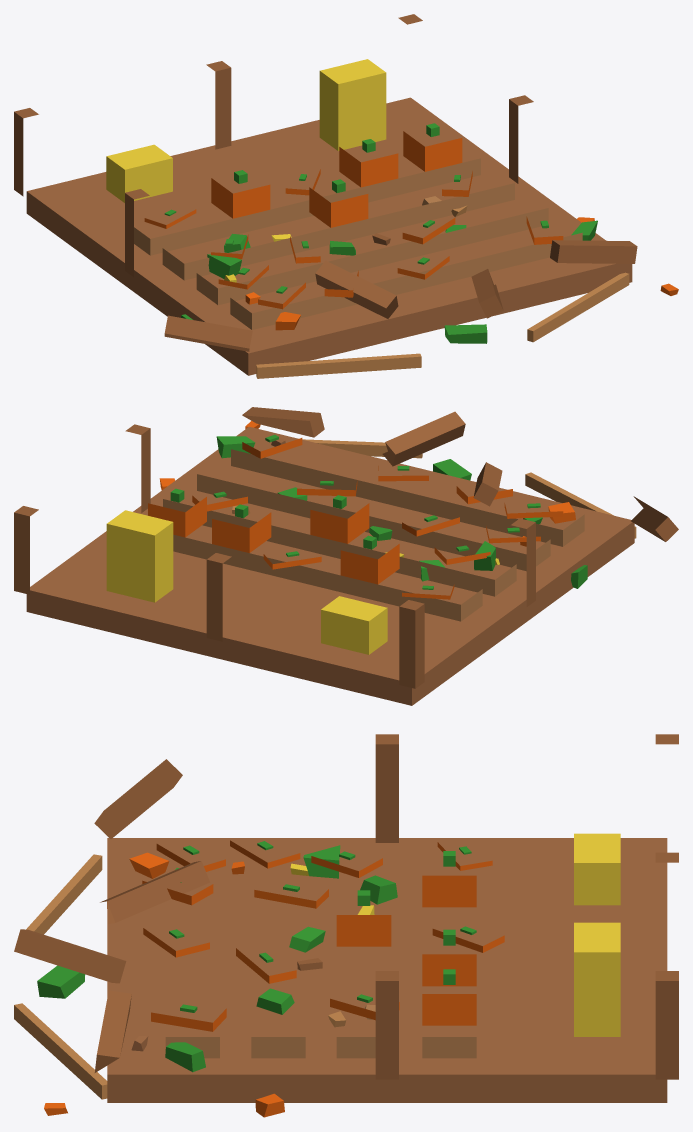
The model's file is field_t2_v3_dmg1.glb.
3 views of the same model, one above another, from view 1: azimuth 30°, elevation 25°; view 2: azimuth 150°, elevation 25°; view 3: azimuth 270°, elevation 25° (orthographic). The views are drawn at different scales.
Visible parts, largest first — view 1: field_t2_v3_dmg1; view 2: field_t2_v3_dmg1; view 3: field_t2_v3_dmg1.
Part boxes in pixels (x1,y1,x2,y2): field_t2_v3_dmg1: (14, 14, 678, 378); field_t2_v3_dmg1: (14, 407, 678, 705); field_t2_v3_dmg1: (14, 734, 678, 1117).
Size of the model in its own units: 0.8888 by 0.18 by 0.855.
Materials: 1 (1 with a texture image).
